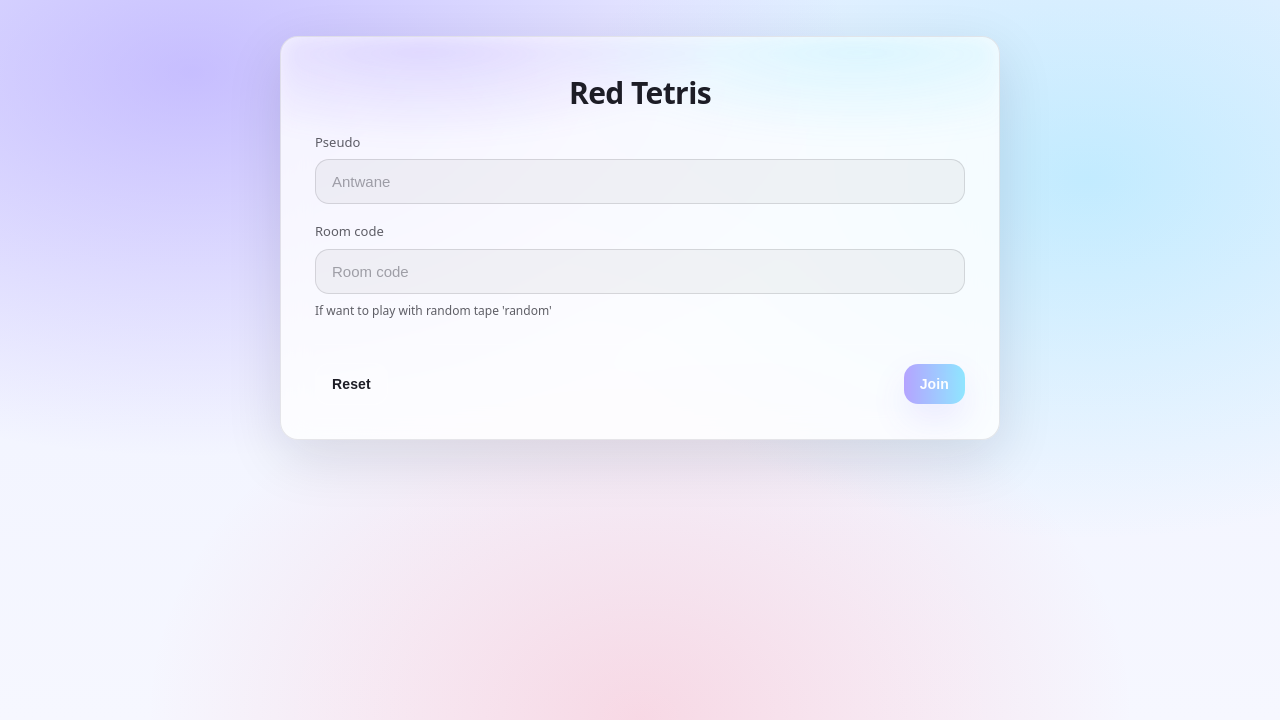
Scenario: Home › enables join button when pseudo and room are valid
This screenshot has width=1280, height=720.
Type "Antoine" into the field with placeholder "Antwane" at (640, 182), box [330,172,950,191]
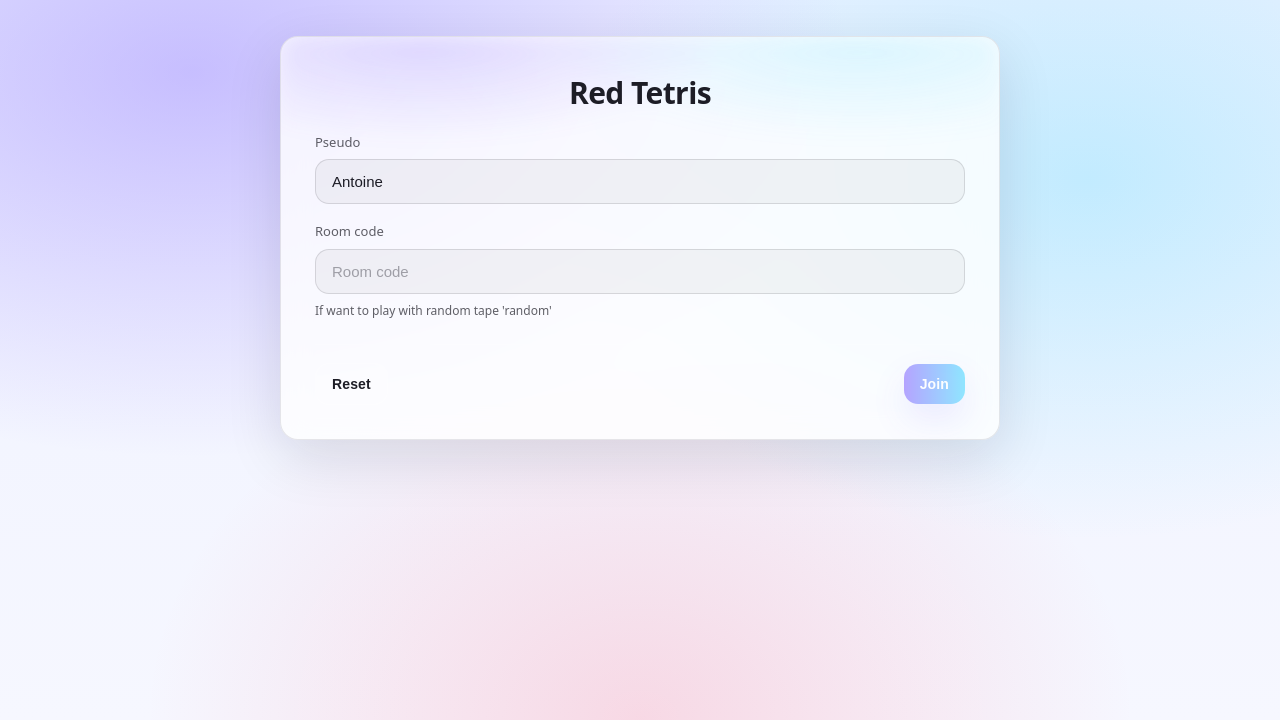
Type "Room42" into the field with placeholder "Room code" at (640, 272), box [330,262,950,281]
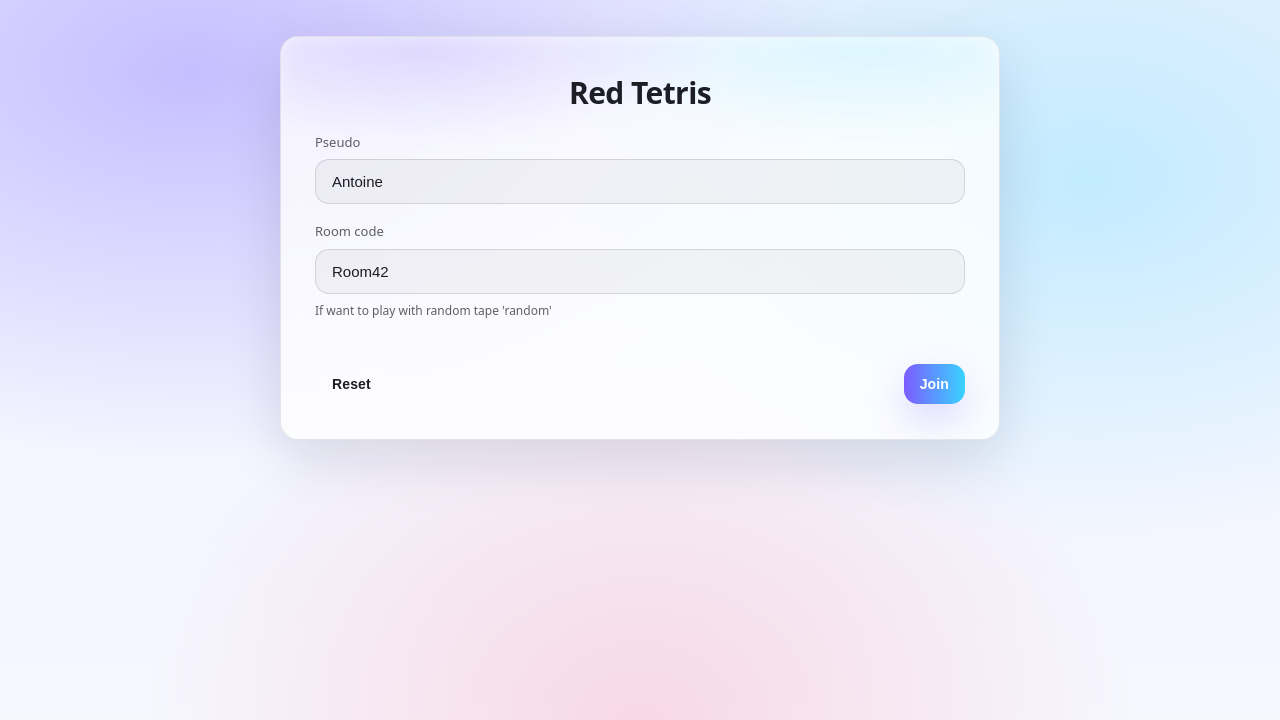
Result: the button "Join" is enabled at [904,364,965,404]
